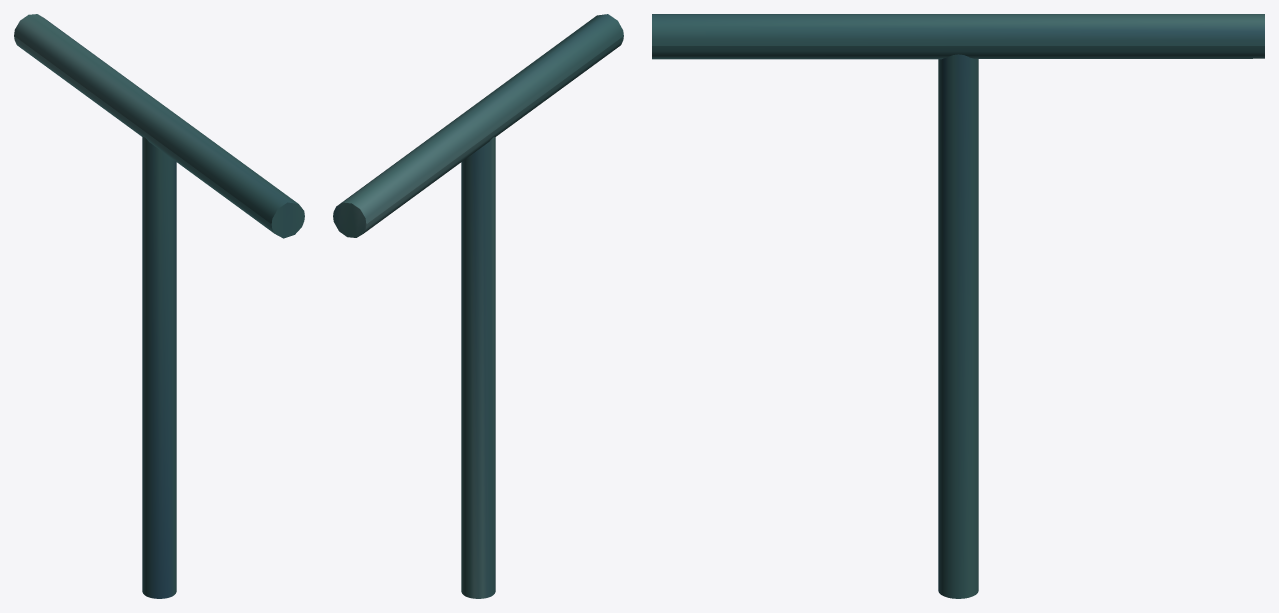
File: Stolb veshalka.fbx
3 views of the same model, side by side, from view 1: azimuth 30°, elevation 25°; view 2: azimuth 150°, elevation 25°; view 3: azimuth 270°, elevation 25° (orthographic). The views are drawn at different scales.
Visible parts, largest first — view 1: Stolb veshalka; view 2: Stolb veshalka; view 3: Stolb veshalka.
Boxes of the visible parts, x1,y1,x2,y2 form: Stolb veshalka: (14,14,304,598); Stolb veshalka: (333,14,623,598); Stolb veshalka: (652,14,1264,598).
Size of the model in its own units: 57.74 by 801 by 773.
